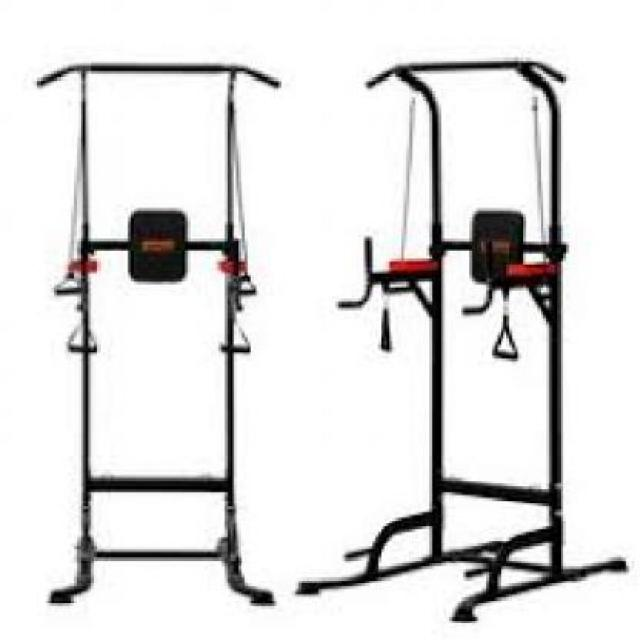chinning dipping: (294, 54, 628, 623), (34, 60, 280, 608)
